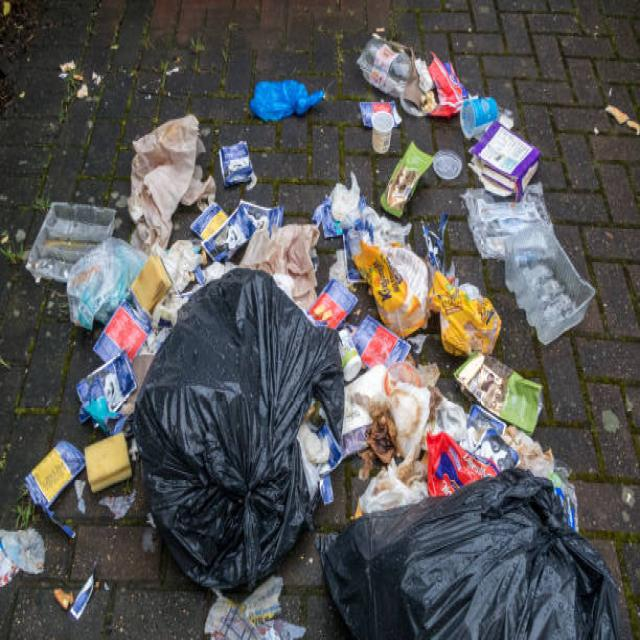garbage: (14, 29, 608, 630), (132, 265, 345, 591), (318, 466, 620, 638), (466, 119, 540, 201), (380, 140, 433, 218), (248, 77, 325, 122)
